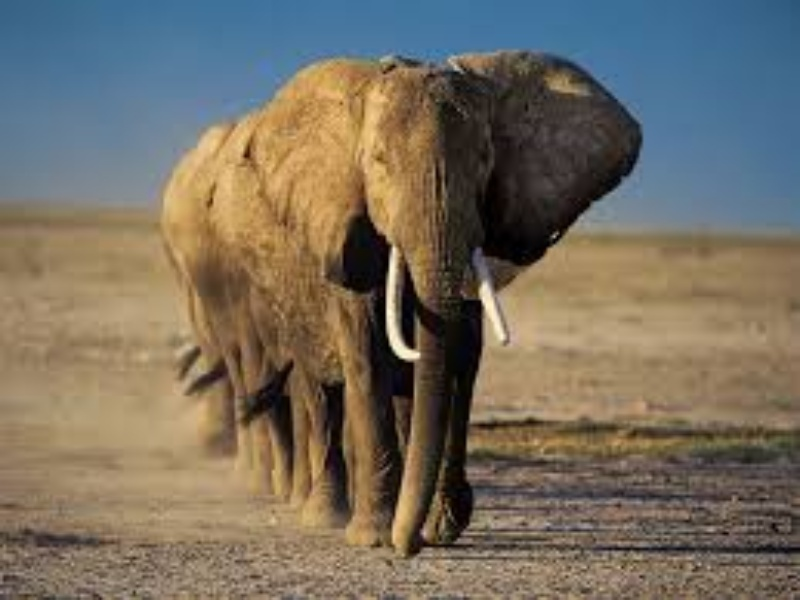elephant: (139, 47, 657, 554)
